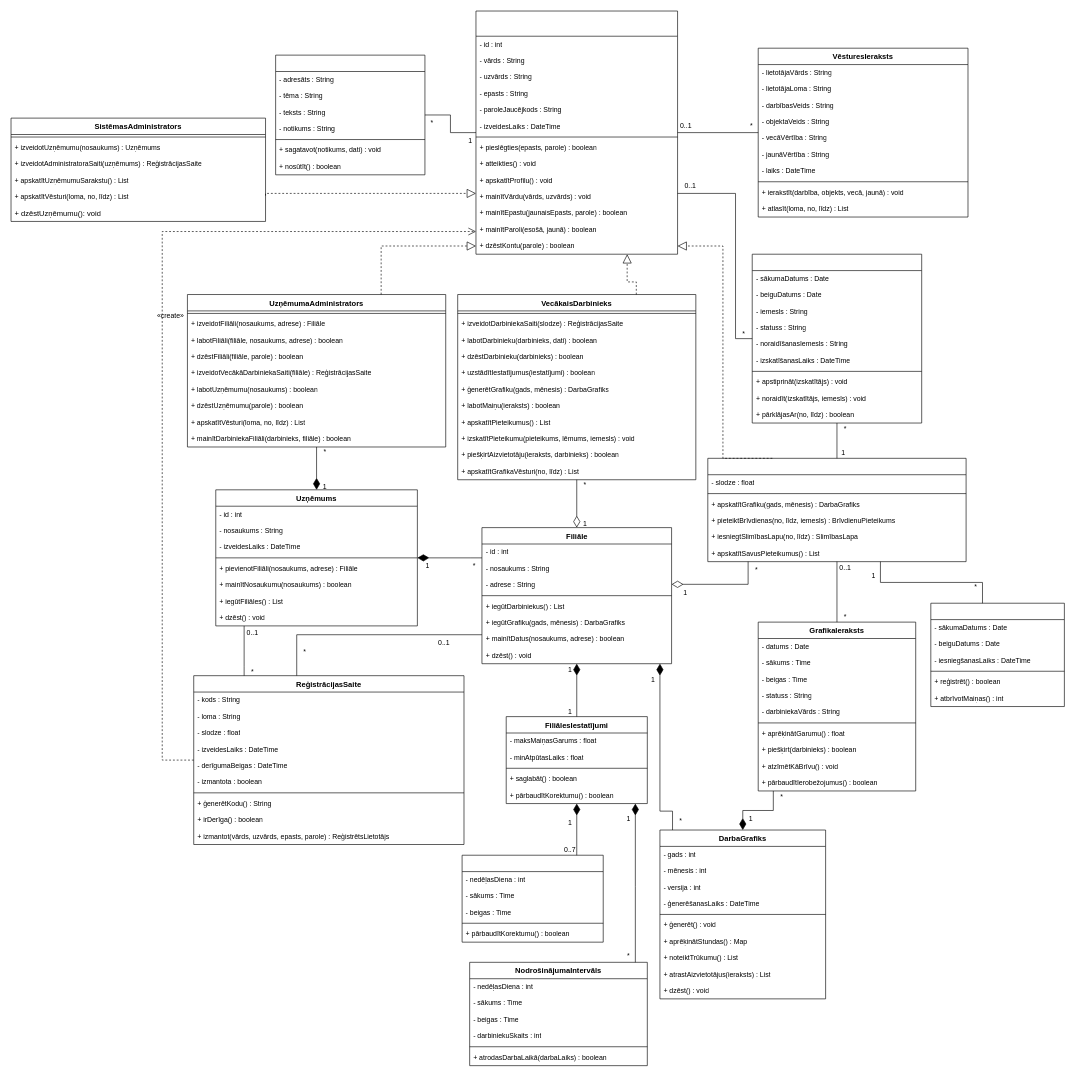
Image size: 1075x1079. Some labels were removed from this diagram. Here are the shapes that lost their labels. From the top down, the box of each, then its label:
(275, 54, 425, 175): EpastaPaziņojums
(475, 10, 678, 254): <<abstract>> ReģistrētsLietotājs
(752, 254, 922, 423): BrīvdienuPieteikums
(707, 458, 966, 562): Darbinieks
(930, 603, 1064, 707): SlimībasLapa
(461, 855, 603, 942): DarbaLaiks
